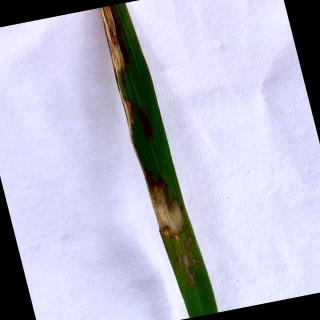Hawar-Daun: (146, 181, 190, 238), (97, 6, 127, 78), (116, 92, 136, 140), (174, 248, 204, 278)
